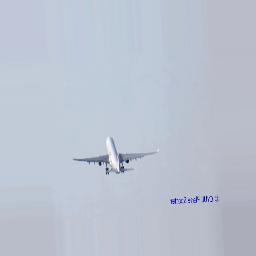Airplane: (74, 138, 159, 174)
